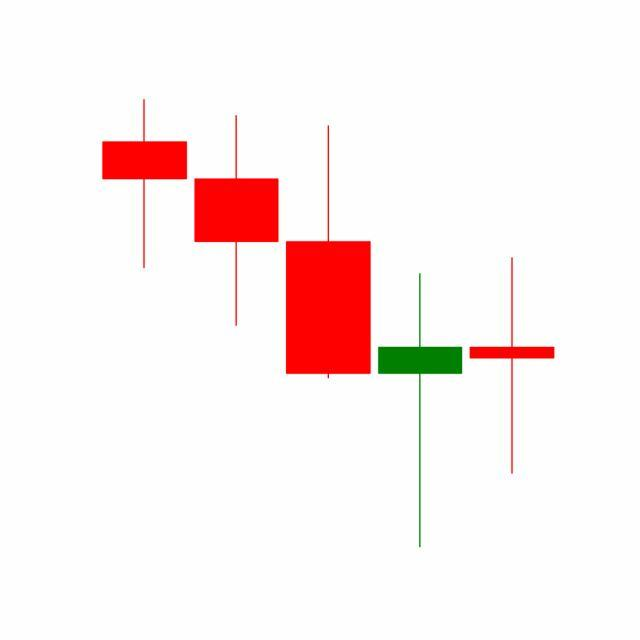Spinning Top: (466, 256, 559, 477)
